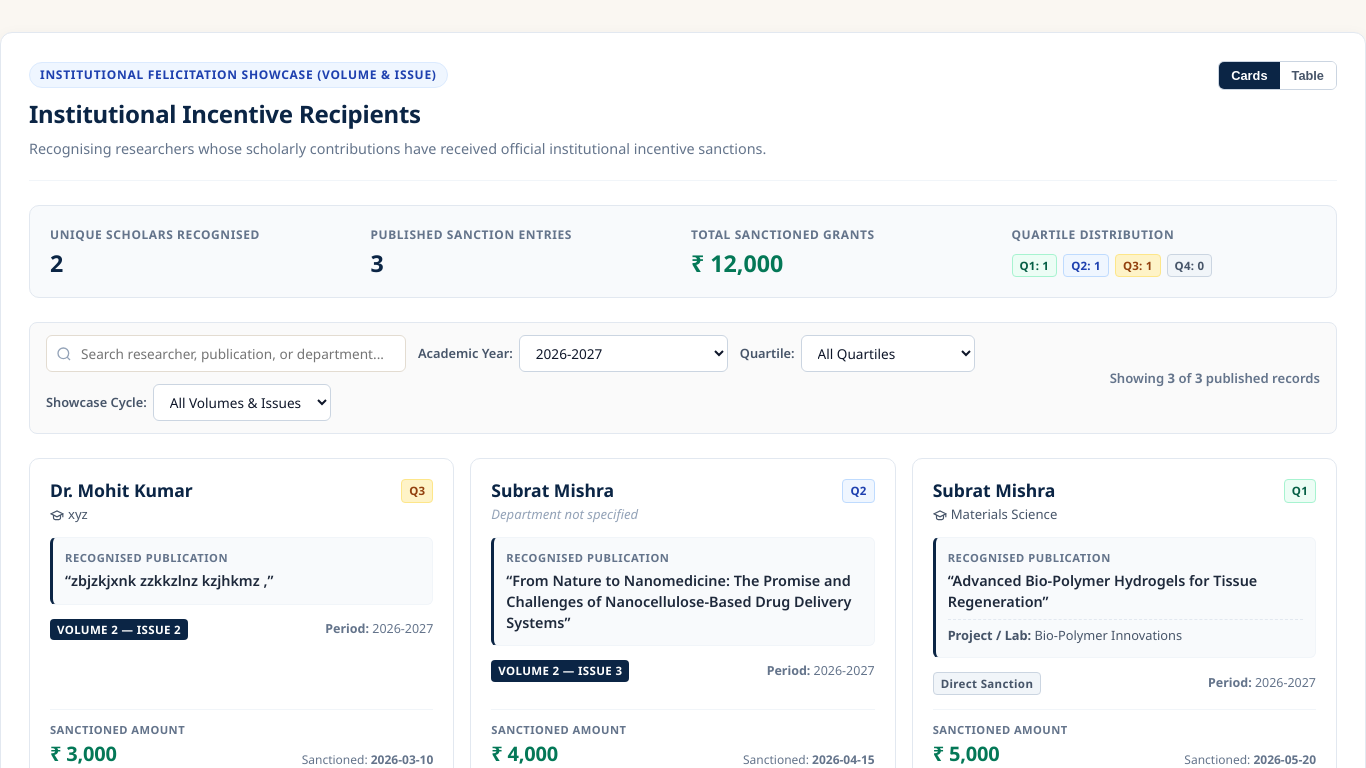
Test: InstitutionalIncentiveRecipients Component Tests › 7. Toggles between Cards and Table views cleanly
Click the button with aria-label "Table view" at [1308, 76], box top-left (1280, 62), bottom-right (1336, 89)
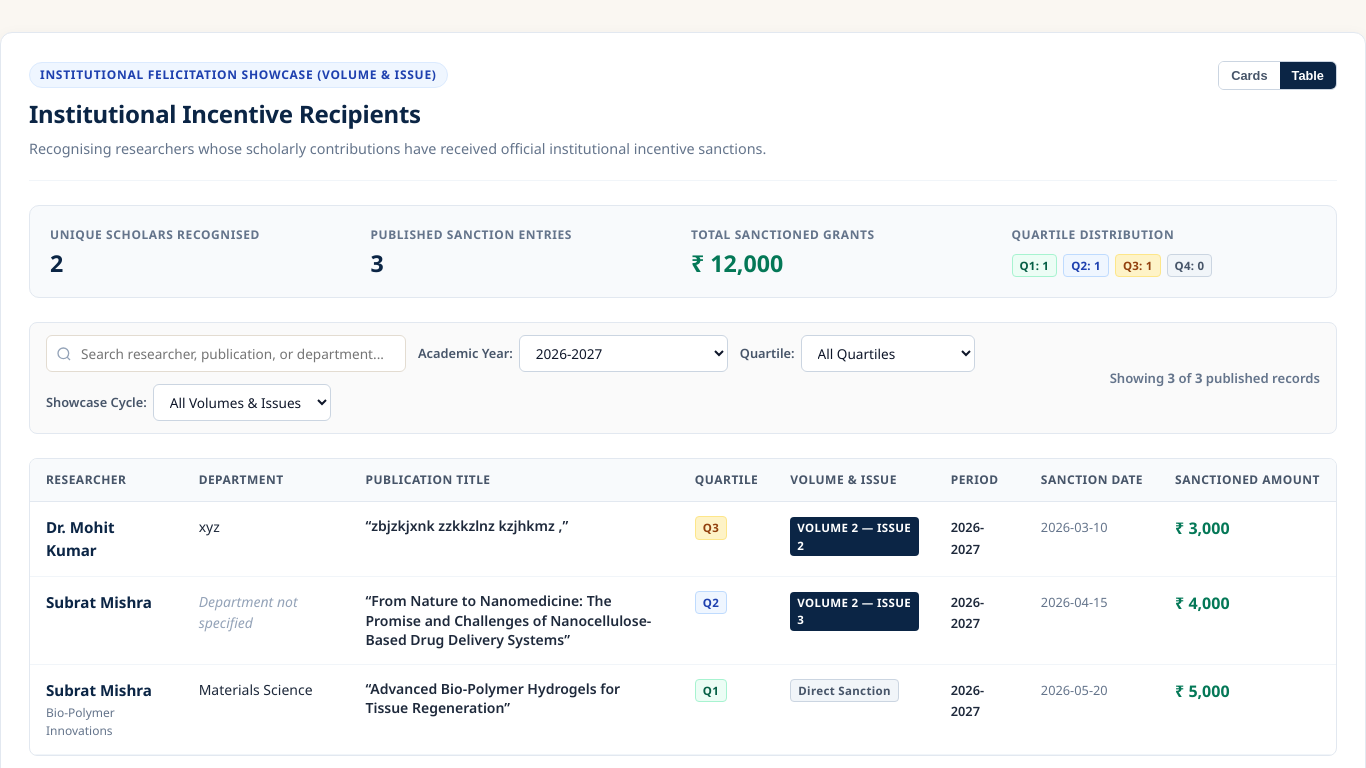
Expected: the column heading "Sanctioned Amount" is shown, top-left (1159, 460), bottom-right (1336, 502)
Now the table is shown, box top-left (30, 460), bottom-right (1336, 755)
Now the column heading "Publication Title" is shown, box top-left (350, 460), bottom-right (679, 502)
Click the button with aria-label "Cards view" at [1249, 76], box top-left (1219, 62), bottom-right (1280, 89)
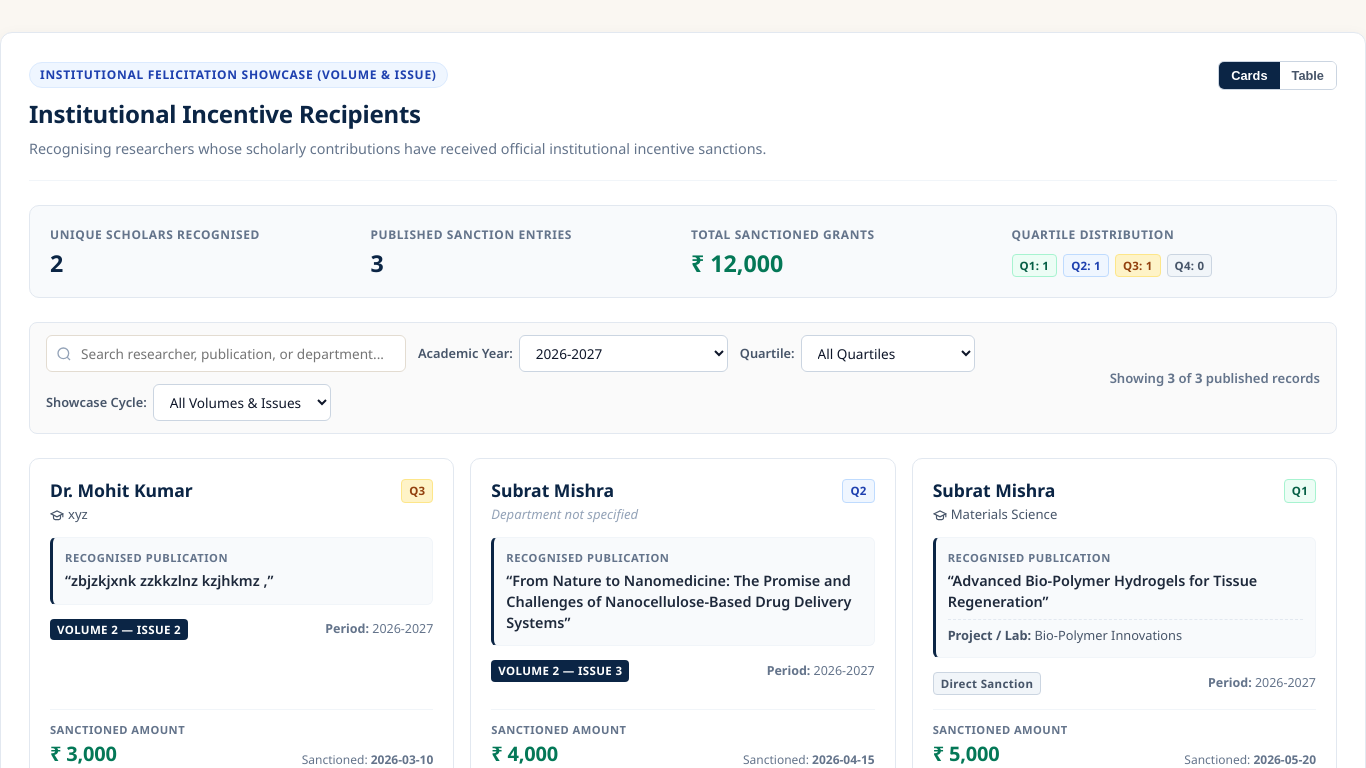
Now the table is gone
